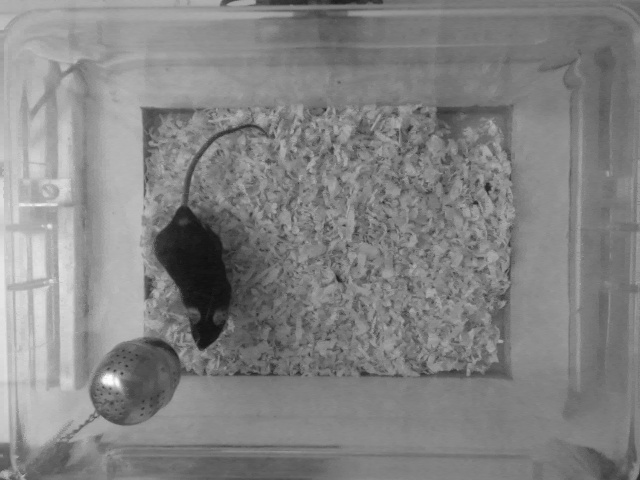mice: (153, 124, 267, 352)
